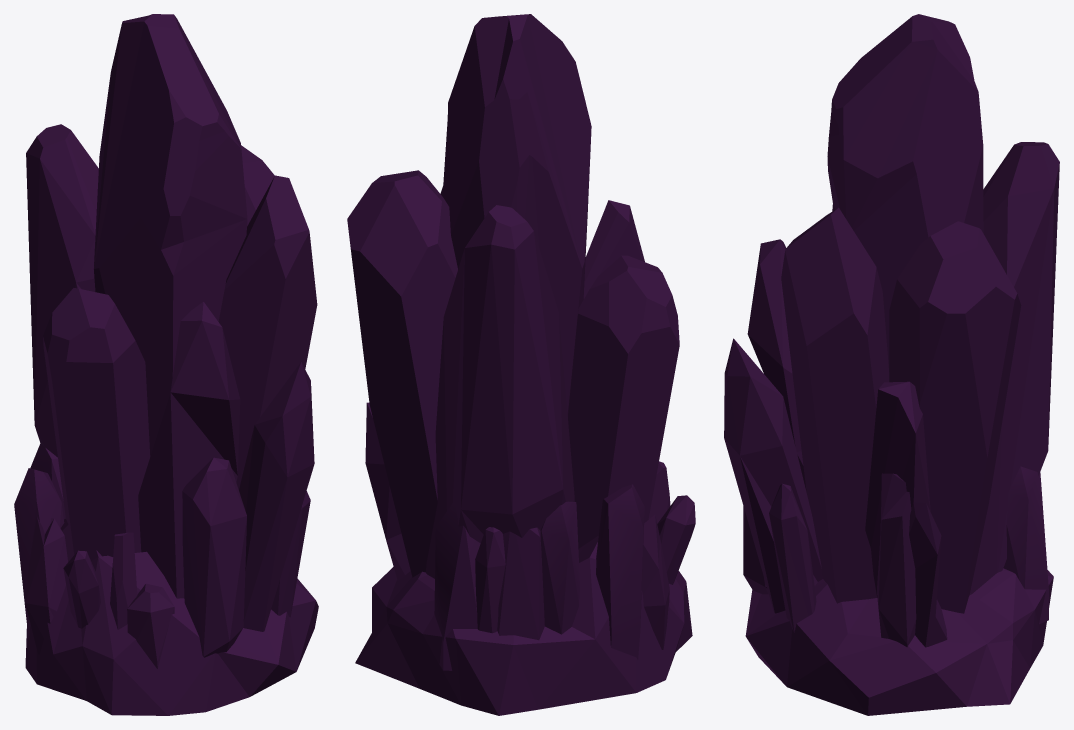
File: mid_ore.fbx
3 views of the same model, side by side, from view 1: azimuth 30°, elevation 25°; view 2: azimuth 150°, elevation 25°; view 3: azimuth 270°, elevation 25° (orthographic). The views are drawn at different scales.
Visible parts, largest first — view 1: mid_ore; view 2: mid_ore; view 3: mid_ore.
Boxes of the visible parts, <box> form: mid_ore: <box>14,14,318,715</box>; mid_ore: <box>347,14,695,715</box>; mid_ore: <box>724,14,1059,715</box>.
Size of the model in its own units: 0.7093 by 0.716 by 1.48.
